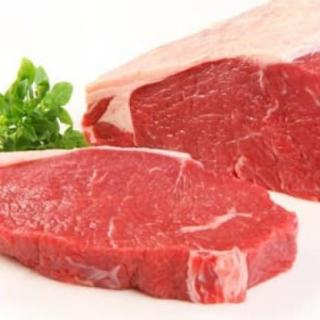Daging Sapi: (1, 145, 299, 306), (85, 4, 320, 199)
